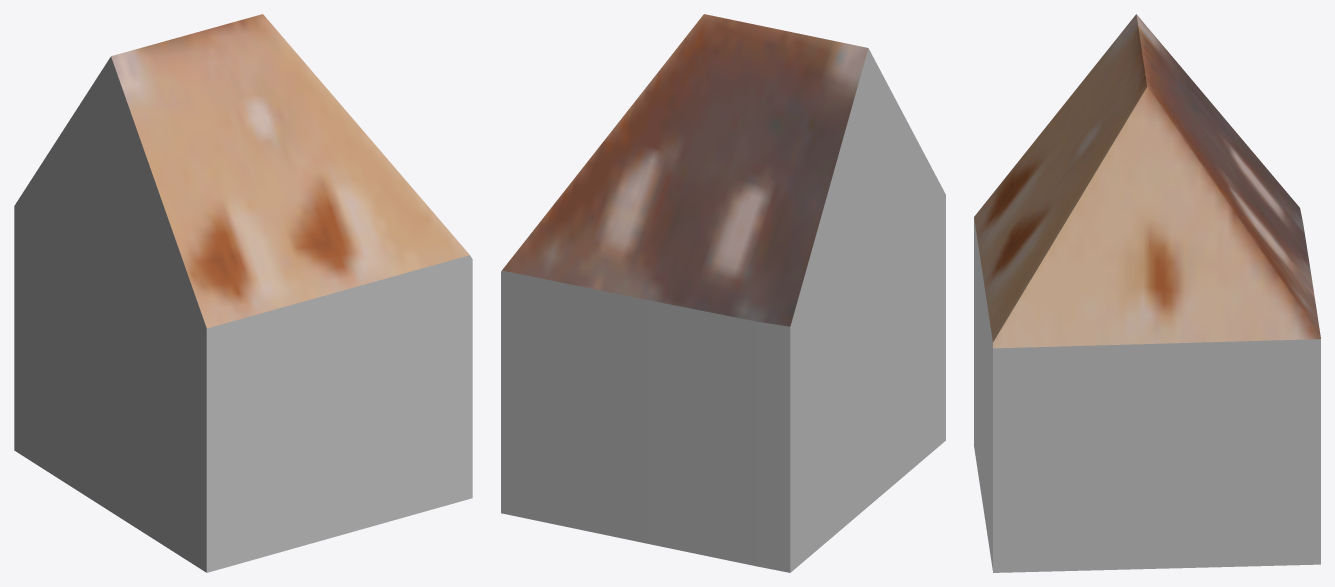
File: DEBW_0010007Txcg.gltf
The picture shows the model from 3 angles, left to right: view 1: azimuth 30°, elevation 25°; view 2: azimuth 150°, elevation 25°; view 3: azimuth 270°, elevation 25°; orthographic projection. The views are drawn at different scales.
Visible parts, largest first — view 1: Z_UP; view 2: Z_UP; view 3: Z_UP.
Boxes of the visible parts, x1,y1,x2,y2 form: Z_UP: [14, 14, 472, 572]; Z_UP: [501, 14, 945, 572]; Z_UP: [974, 14, 1320, 572].
Size of the model in its own units: 9.21 by 13.61 by 9.99.
Materials: 2 (1 with a texture image).
